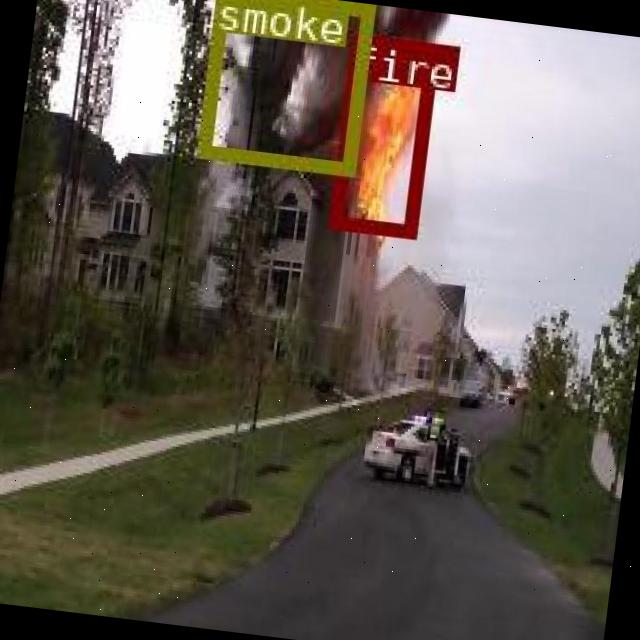fire: (326, 32, 436, 235)
smoke: (196, 0, 370, 173)
